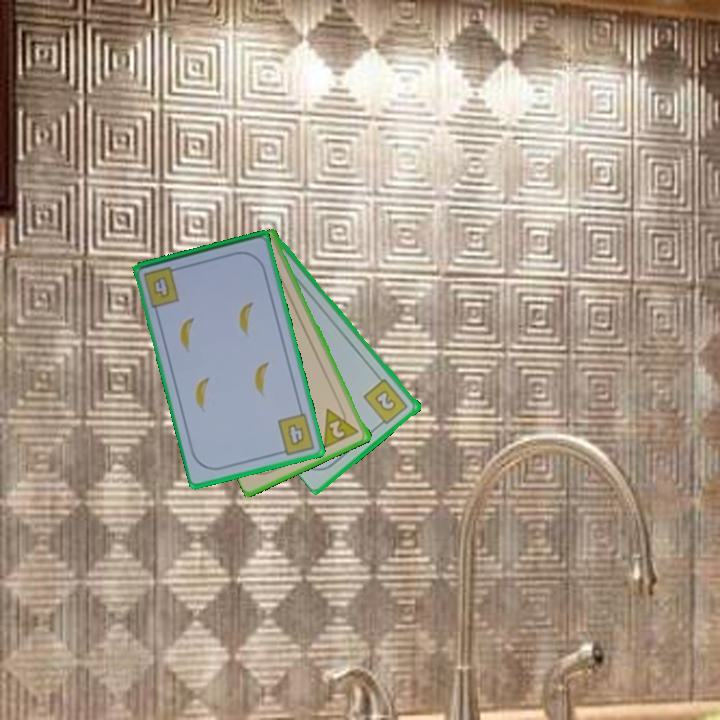2b: (360, 375, 411, 430)
2p: (320, 401, 362, 451)
4b: (274, 410, 318, 458), (140, 263, 184, 310)
